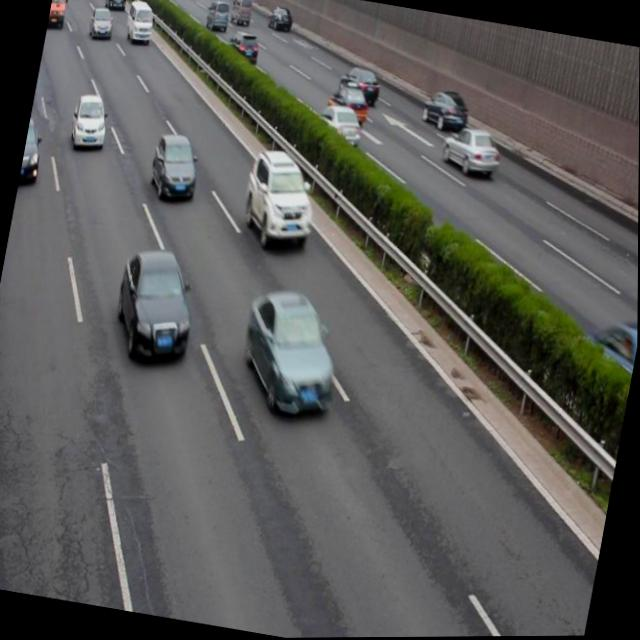car: (234, 287, 346, 422), (109, 246, 203, 366), (237, 147, 324, 250), (146, 131, 203, 203), (437, 124, 503, 179), (68, 92, 111, 152), (419, 87, 469, 134), (314, 102, 364, 146), (326, 81, 370, 122), (19, 118, 46, 184), (337, 64, 381, 103), (224, 29, 261, 69), (87, 6, 113, 40), (204, 0, 229, 33), (267, 6, 293, 33), (103, 0, 128, 12)
truck: (123, 0, 155, 45), (227, 0, 252, 27), (47, 0, 70, 26)
